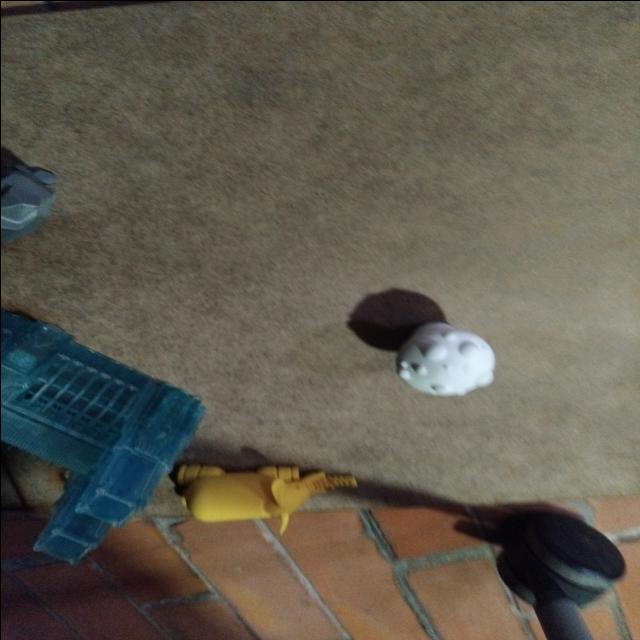Hongo: (386, 319, 504, 400)
